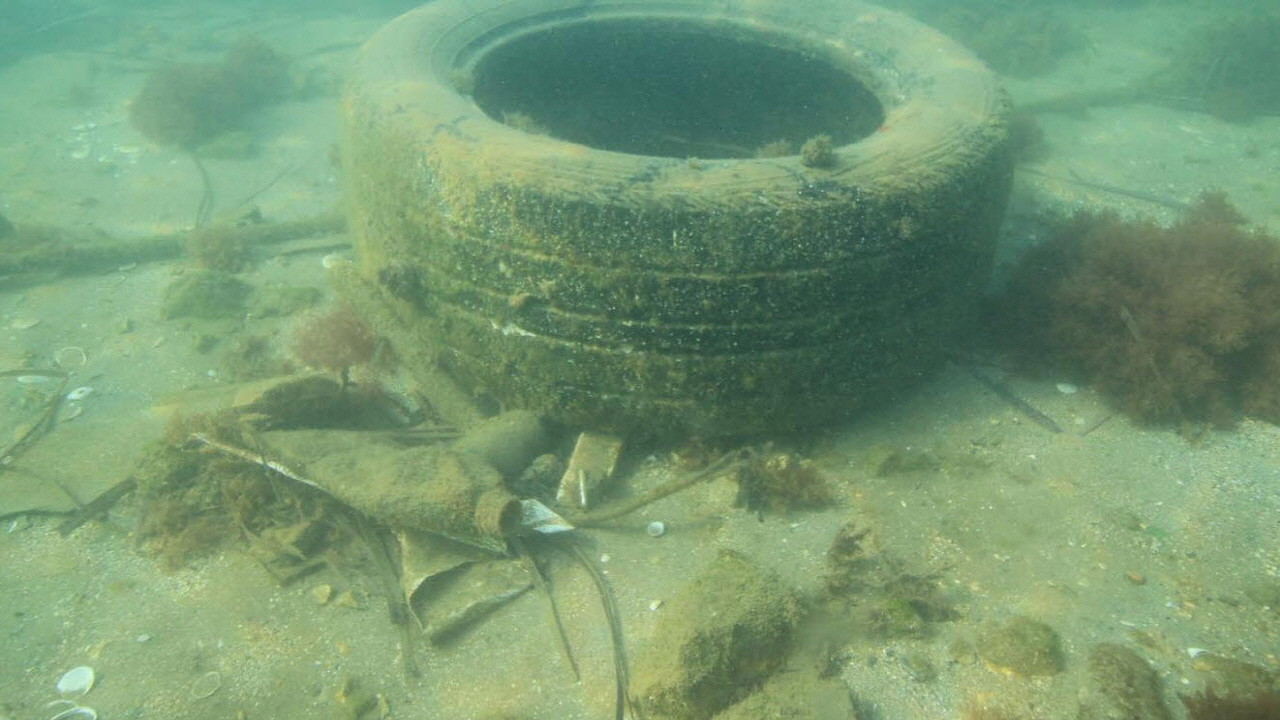rope: (0, 212, 340, 276)
tire: (336, 0, 1013, 435)
